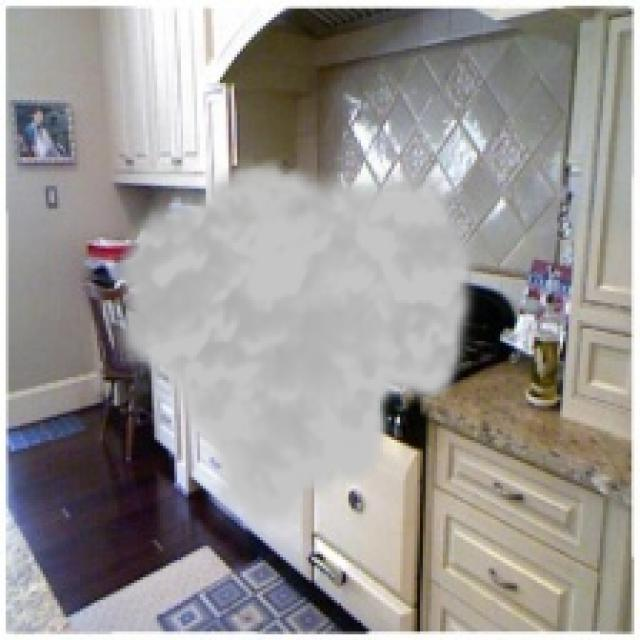Smoke: (103, 155, 483, 540)
